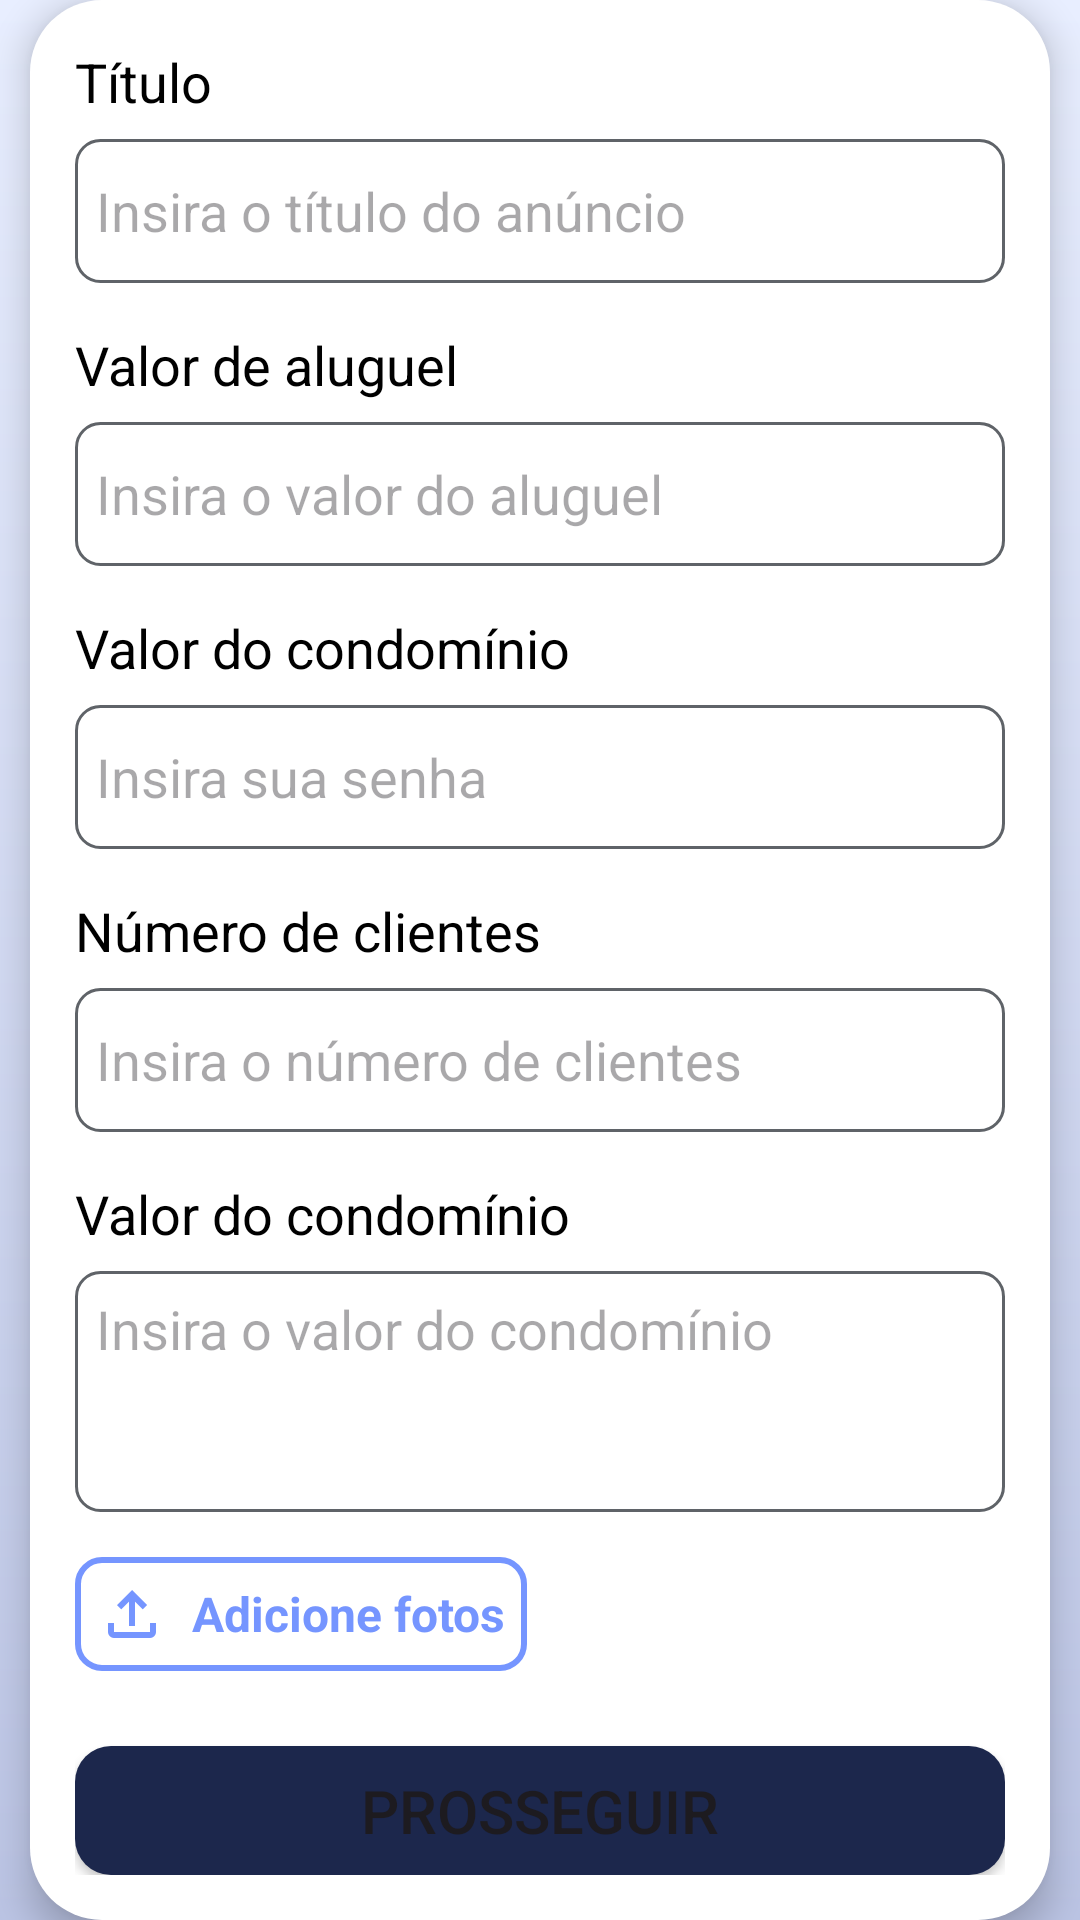

Named icons in this screenshot (1080×1920) and their centers, (x,y):
Icone usado para simbolizar envio de arquivos: (132,1614)
